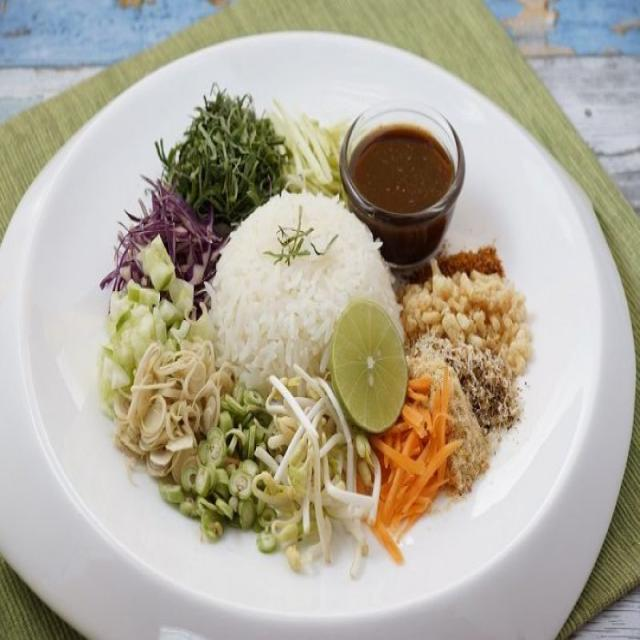carb: (226, 210, 401, 406)
rice salad: (118, 107, 528, 566)
vegetable: (211, 388, 448, 548), (183, 100, 278, 204)
